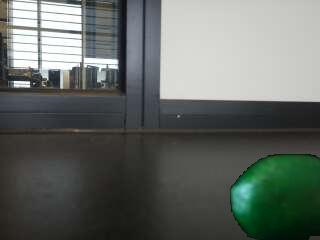Lime: (230, 154, 320, 240)
